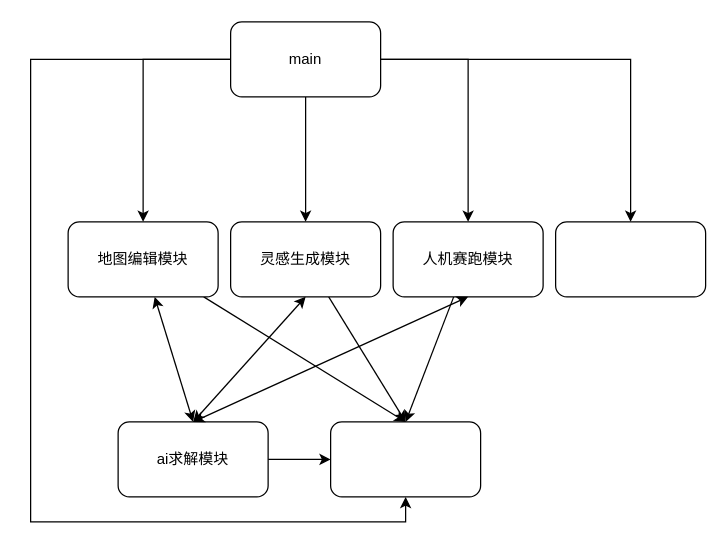
Image size: 728x554. Some labels were removed from this diagram. Here are the shapes that lost their labels. From the top down, the box of each, then its label:
(554, 221, 706, 297): 数据持久化模块
(329, 421, 481, 497): 界面渲染模块
